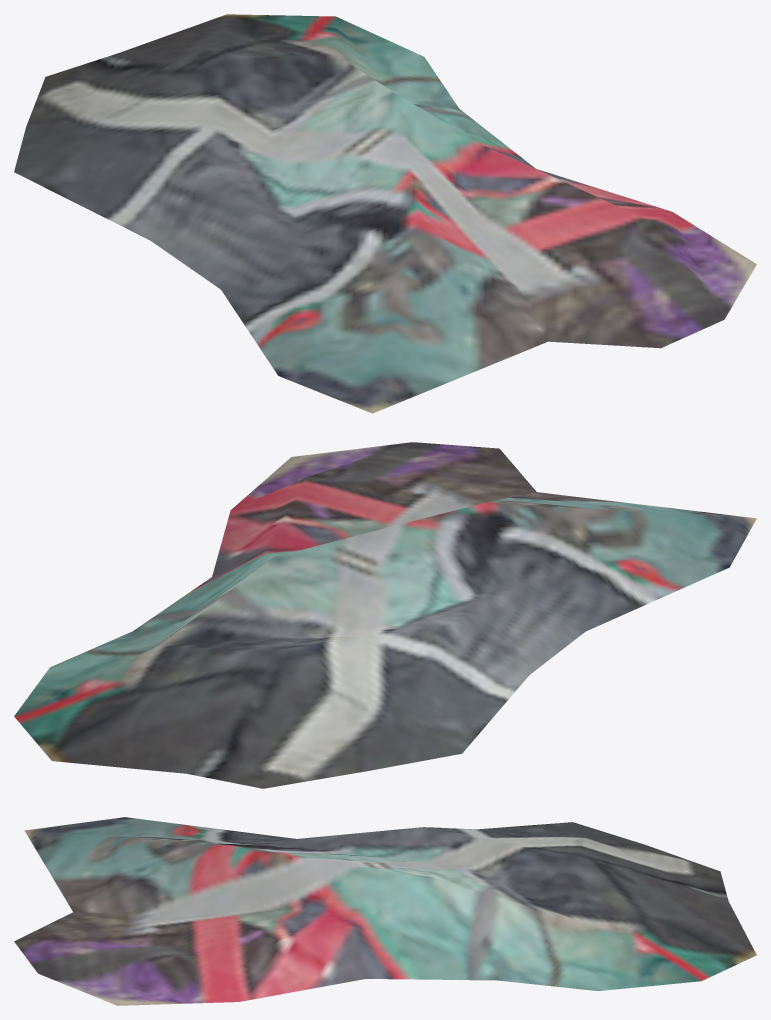
File: laundry_1.FBX
The picture shows the model from 3 angles, top to bottom: view 1: azimuth 30°, elevation 25°; view 2: azimuth 150°, elevation 25°; view 3: azimuth 270°, elevation 25°; orthographic projection. The views are drawn at different scales.
Parts seen in each view (by area): view 1: laundry_1; view 2: laundry_1; view 3: laundry_1.
Boxes of the visible parts, box(x1,y1,x2,y2) form: laundry_1: box(14, 14, 756, 413); laundry_1: box(14, 442, 756, 788); laundry_1: box(14, 817, 756, 1005).
Bounding box in the file's own units: 14.86 × 2.34 × 24.8.
